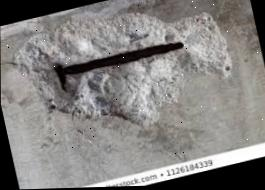exposed_rebar: (54, 42, 183, 90)
spalling: (12, 12, 231, 124)
